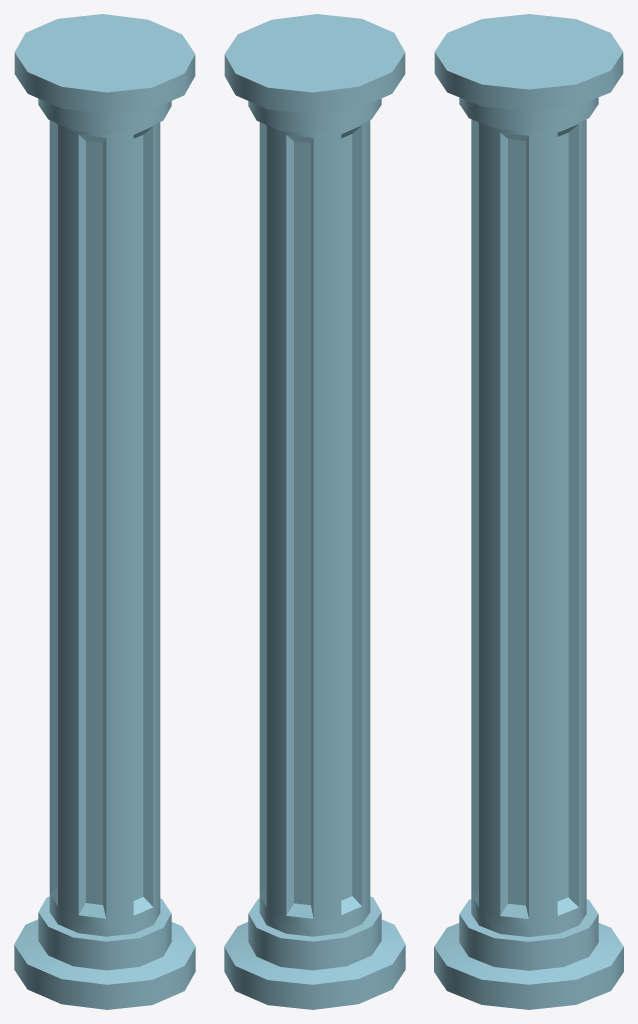
Rendered from 2water_1.fbx.
3 views of the same model, side by side, from view 1: azimuth 30°, elevation 25°; view 2: azimuth 150°, elevation 25°; view 3: azimuth 270°, elevation 25° (orthographic).
Visible parts, largest first — view 1: 1; view 2: 1; view 3: 1.
Part boxes in pixels (bbox=[...]): 1: bbox=[14, 14, 195, 1009]; 1: bbox=[224, 14, 405, 1009]; 1: bbox=[434, 14, 623, 1009].
Bounding box in the file's own units: 65.77 × 69.44 × 373.
Materials: 1 (1 with a texture image).
